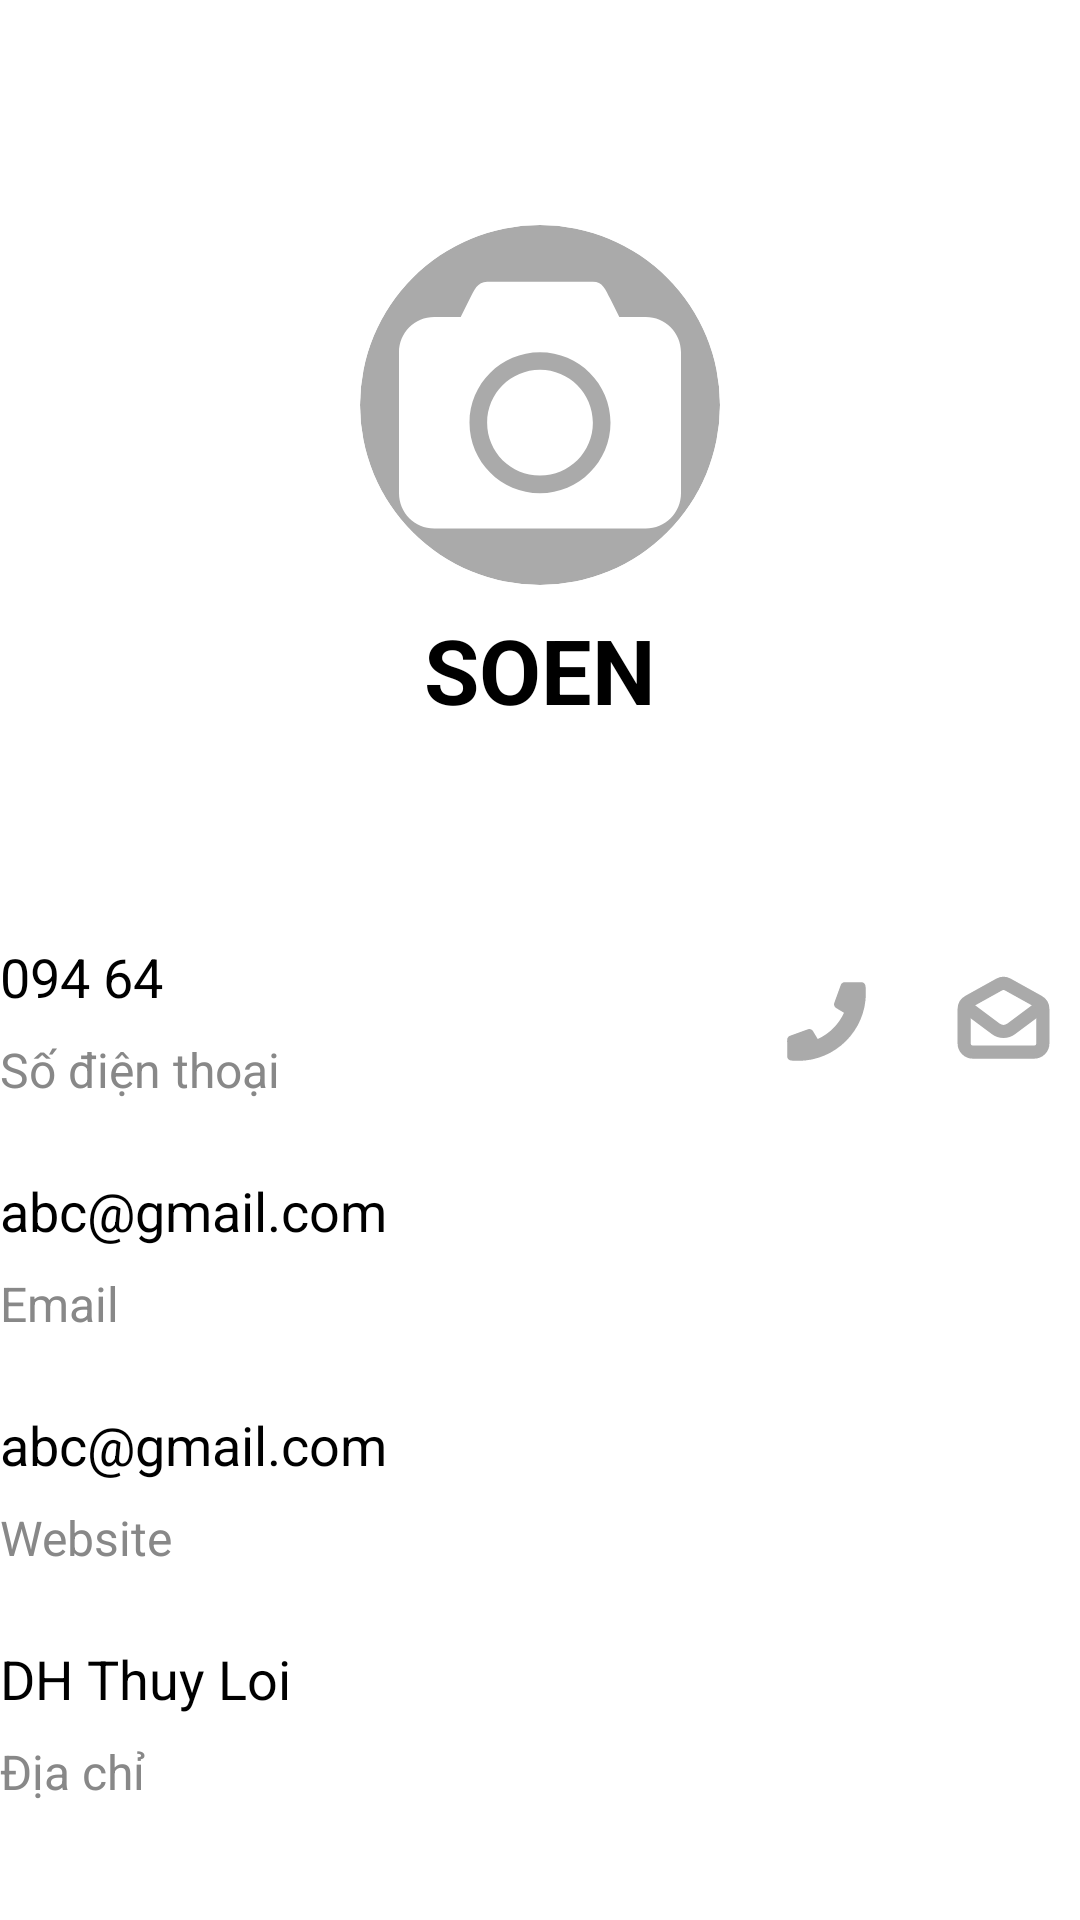

Where to tap for icons on this 1080*1920 app screen, as [x,y]:
camera: [540,405]
email: [1003,1018]
phone: [826,1021]
